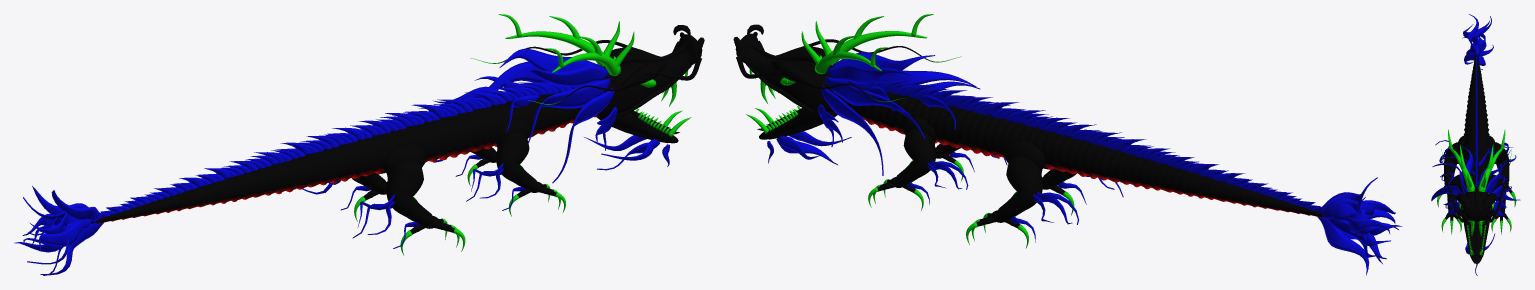
The model's file is dragon200b.glb.
3 views of the same model, side by side, from view 1: azimuth 30°, elevation 25°; view 2: azimuth 150°, elevation 25°; view 3: azimuth 270°, elevation 25° (orthographic). The views are drawn at different scales.
Visible parts, largest first — view 1: d200b-dragon; view 2: d200b-dragon; view 3: d200b-dragon.
Part boxes in pixels (x1=…): d200b-dragon: x1=14, y1=14, x2=704, y2=275; d200b-dragon: x1=733, y1=14, x2=1402, y2=275; d200b-dragon: x1=1431, y1=14, x2=1520, y2=275.
Bounding box in the file's own units: 32 × 8.14 × 6.13.
